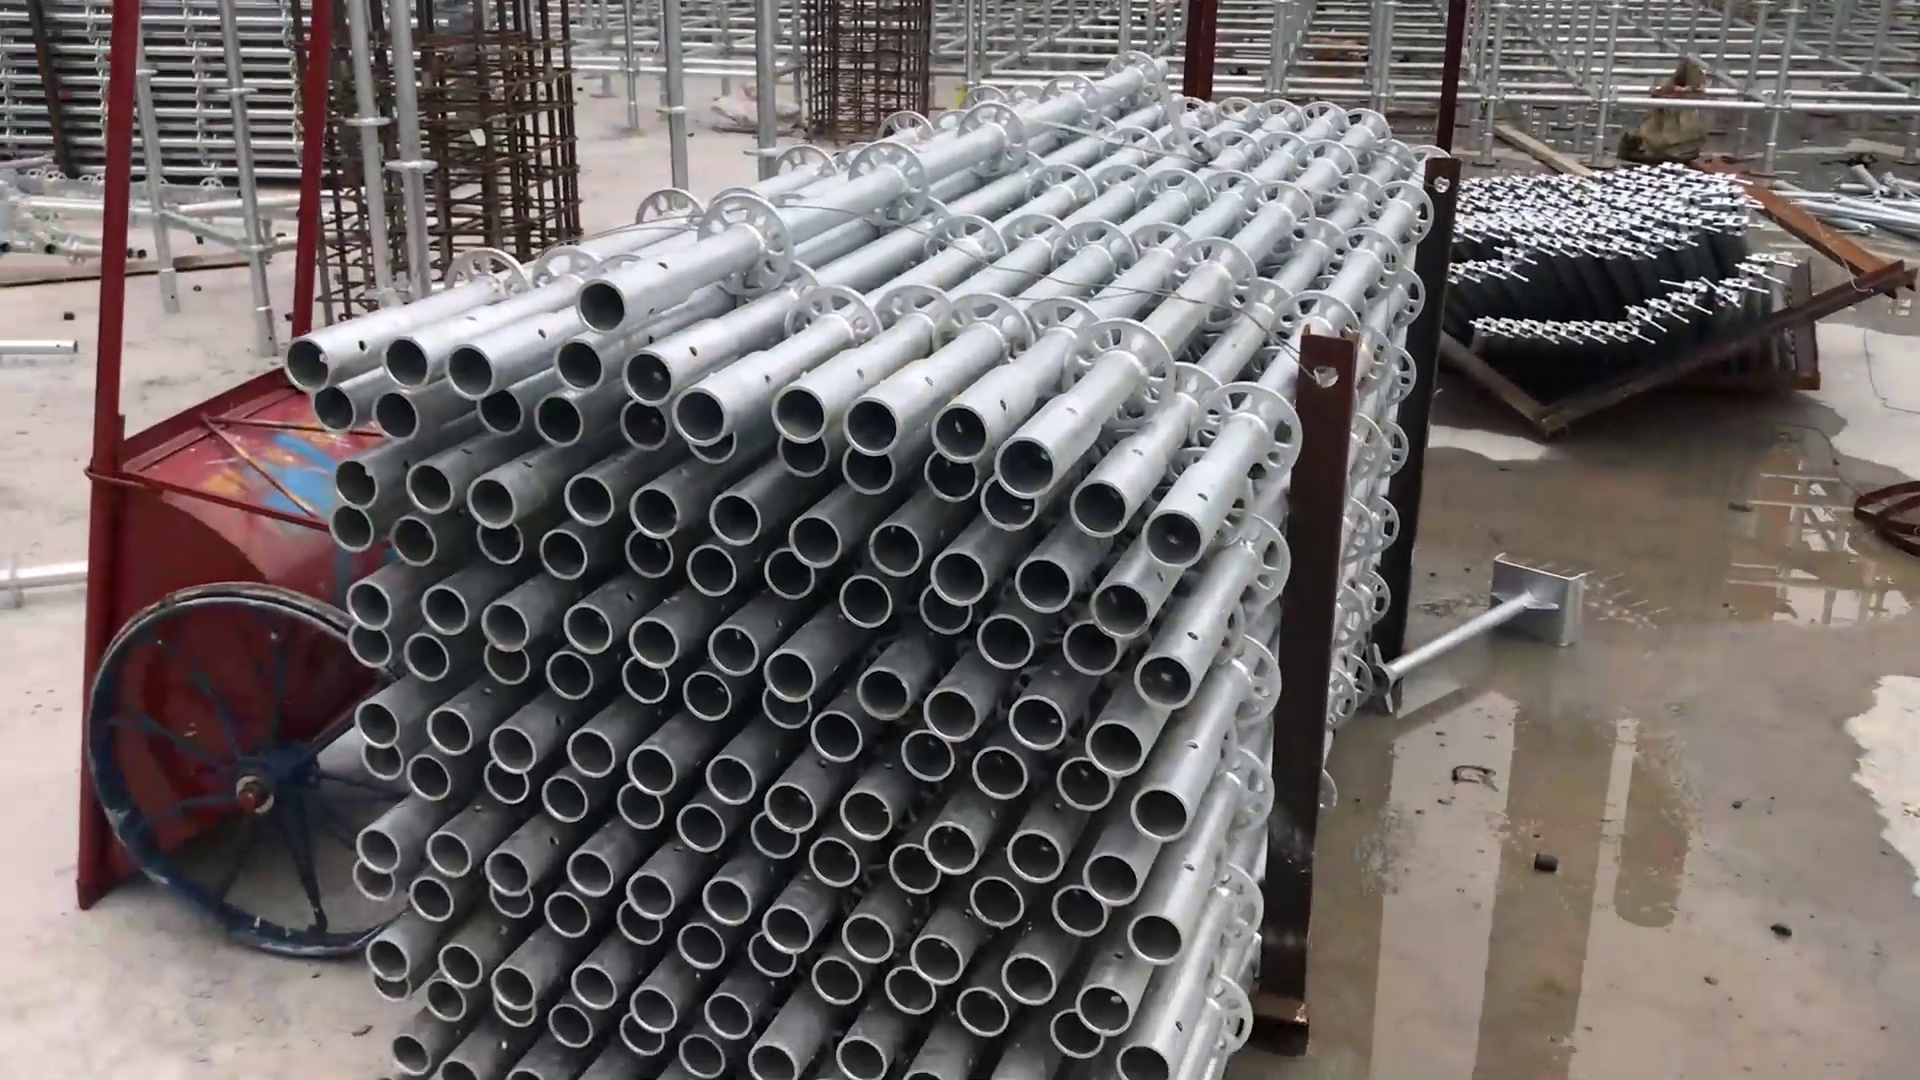handcart: (55, 1, 414, 982)
scaffold: (287, 61, 1437, 1080), (1437, 160, 1817, 390)
